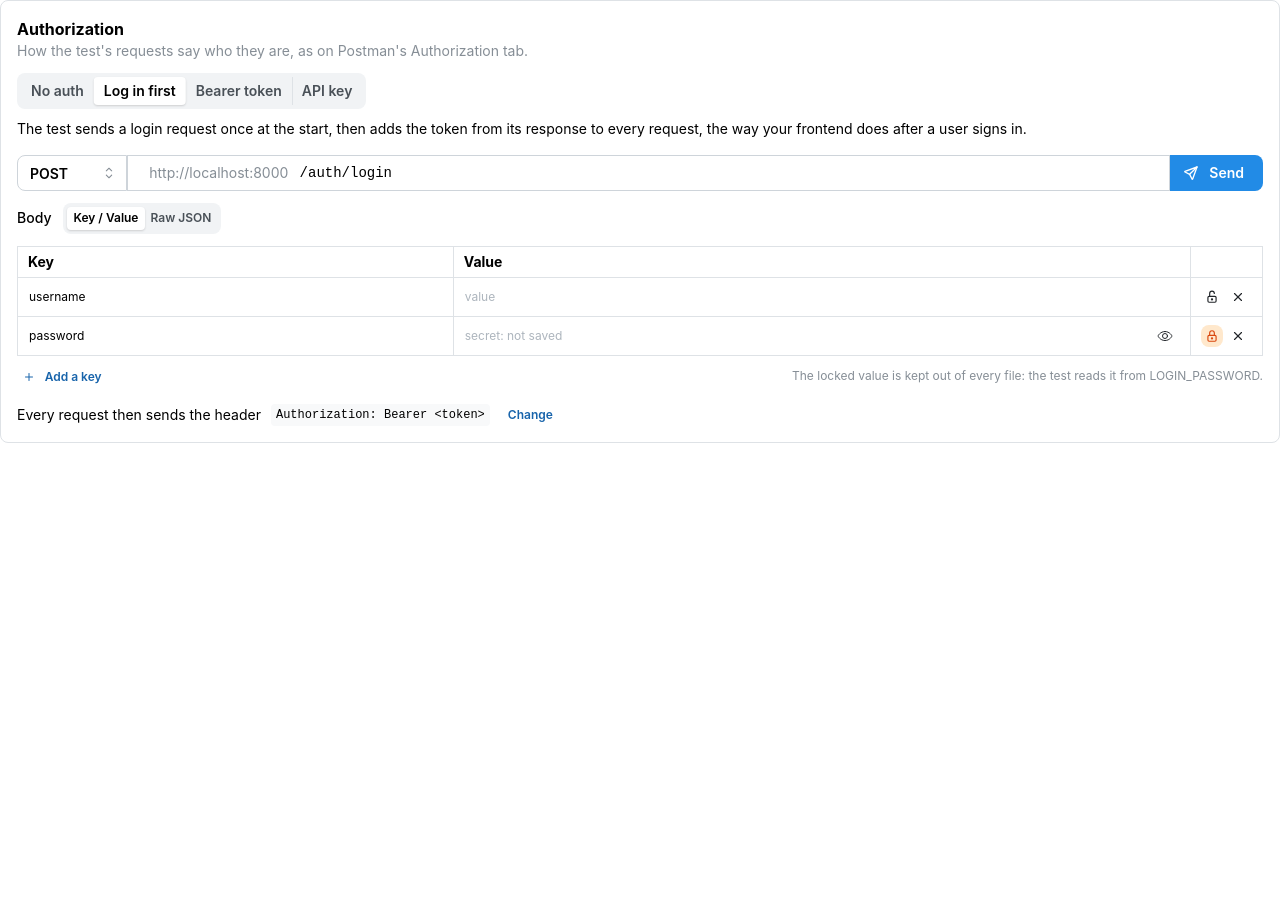
Test: the Authorization panel › explains a refused login
The width and height of the screenshot is (1280, 900).
Click the button "Send". click: (1217, 173)
box: 1170,155 -> 1263,191
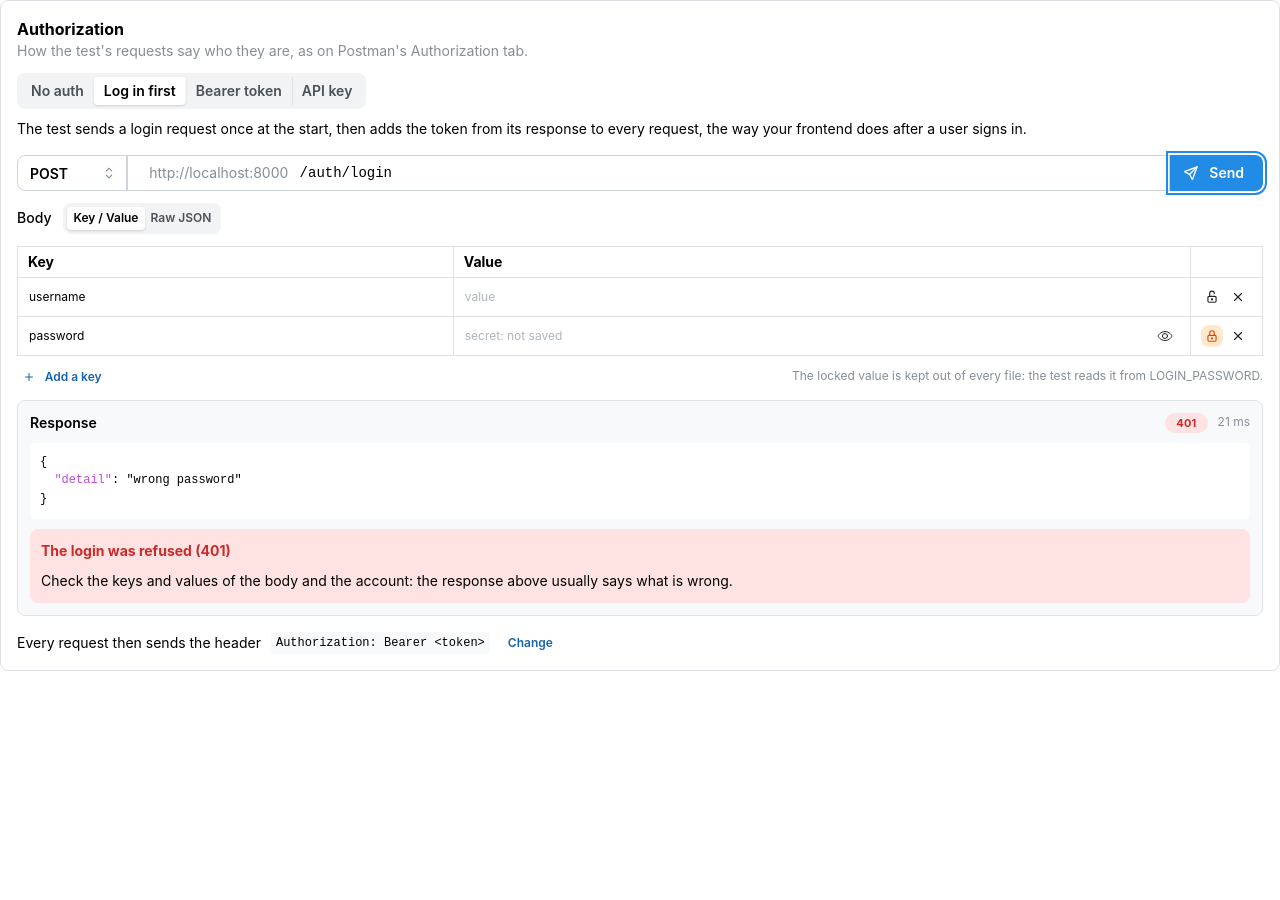
Expected: the text "The login was refused (401)" is shown, 41,540 -> 231,561
